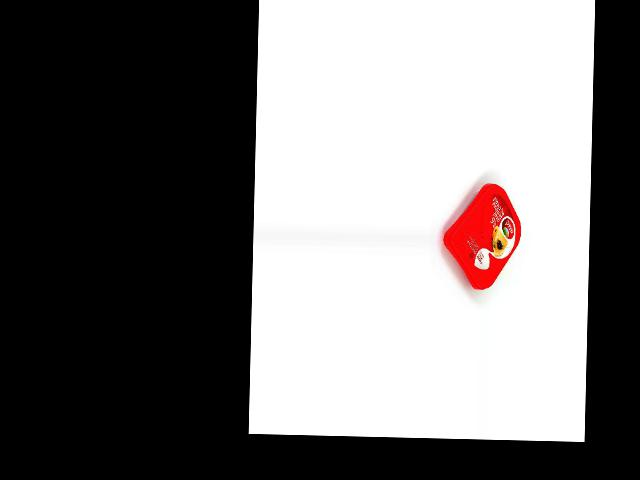cheese: (441, 182, 522, 291)
